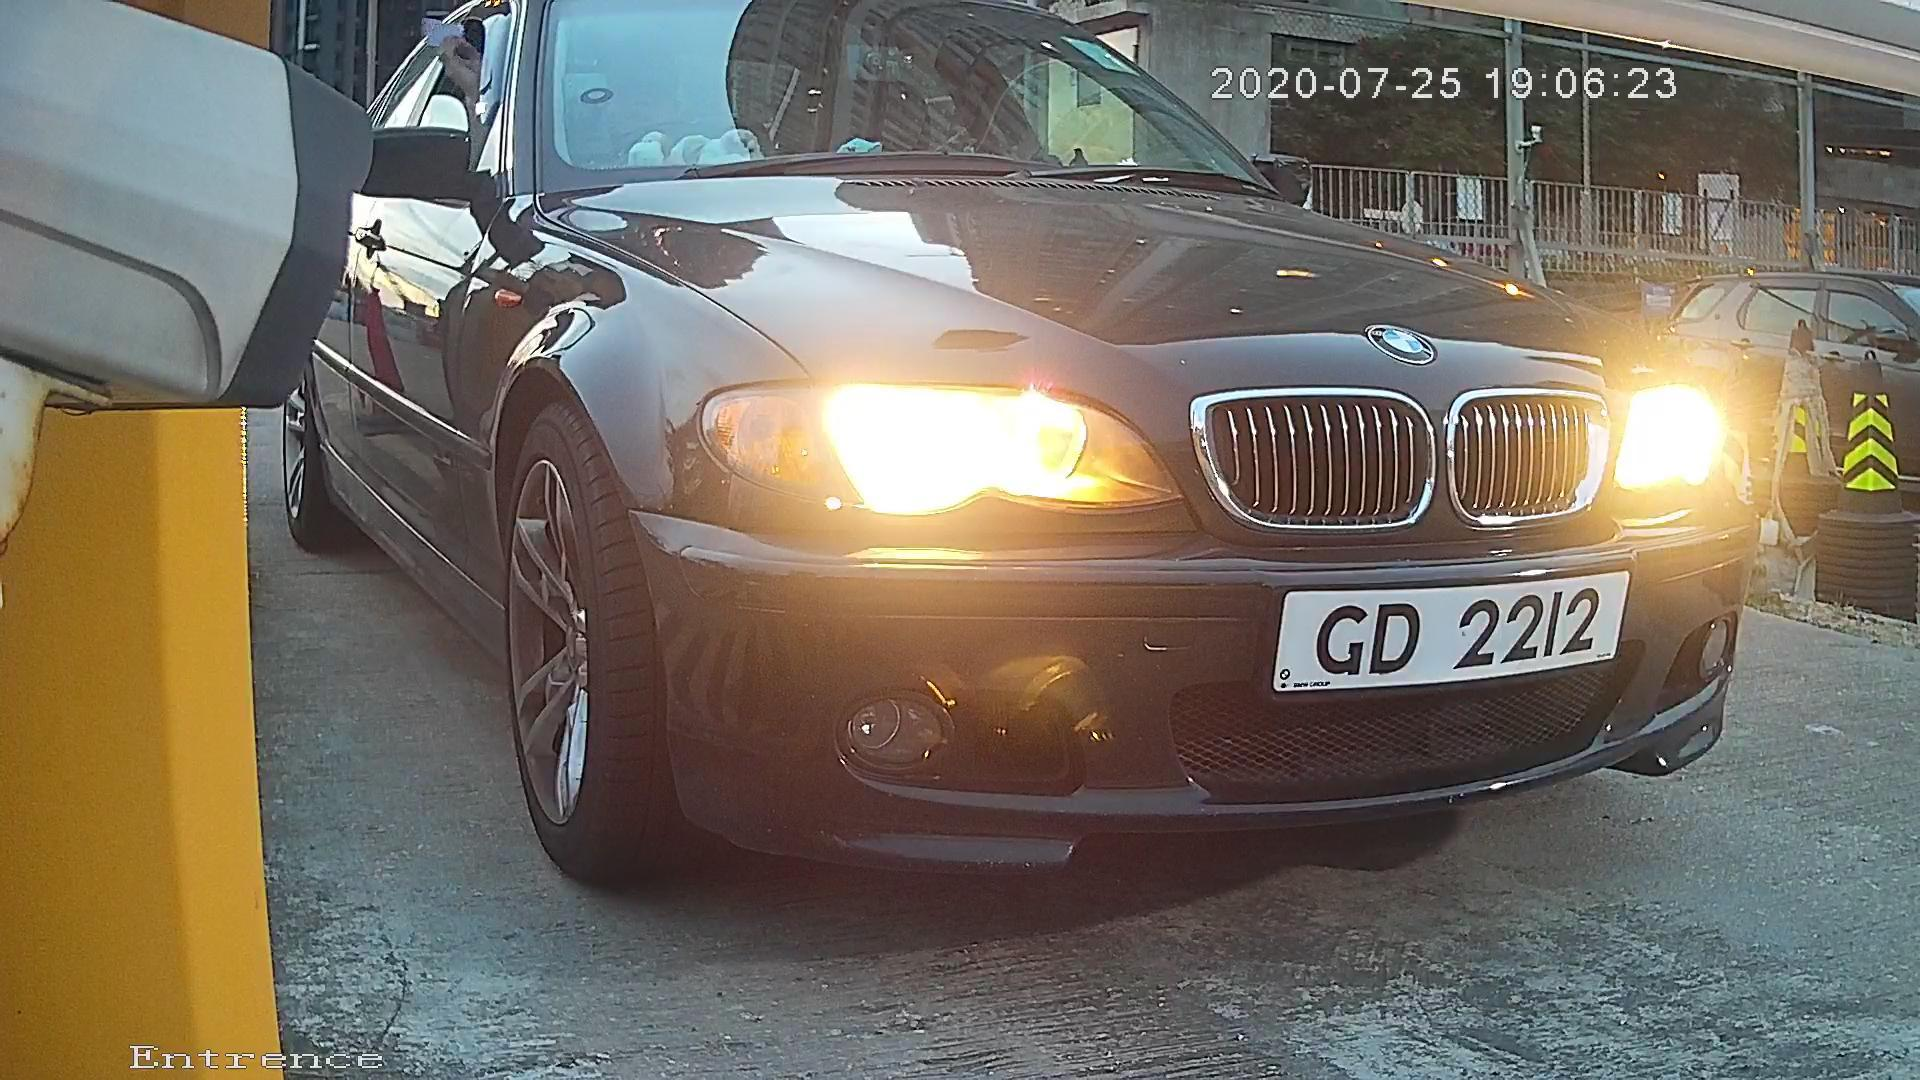privatecar: (343, 29, 1783, 873)
